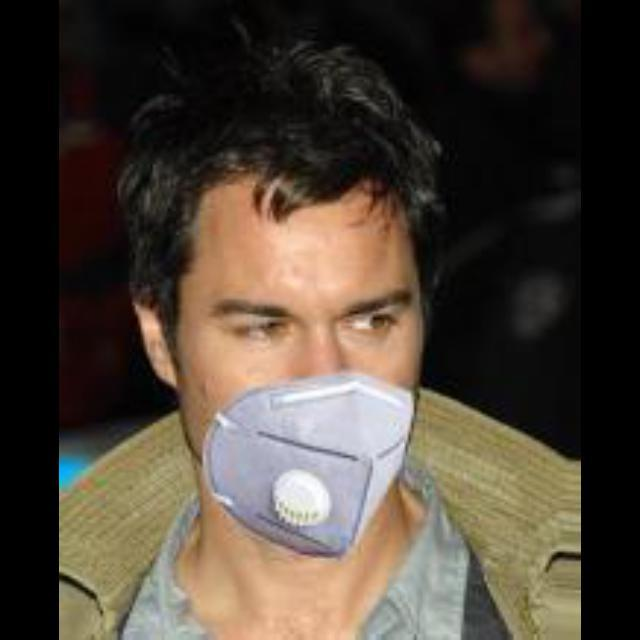suspicion: (134, 70, 472, 540)
